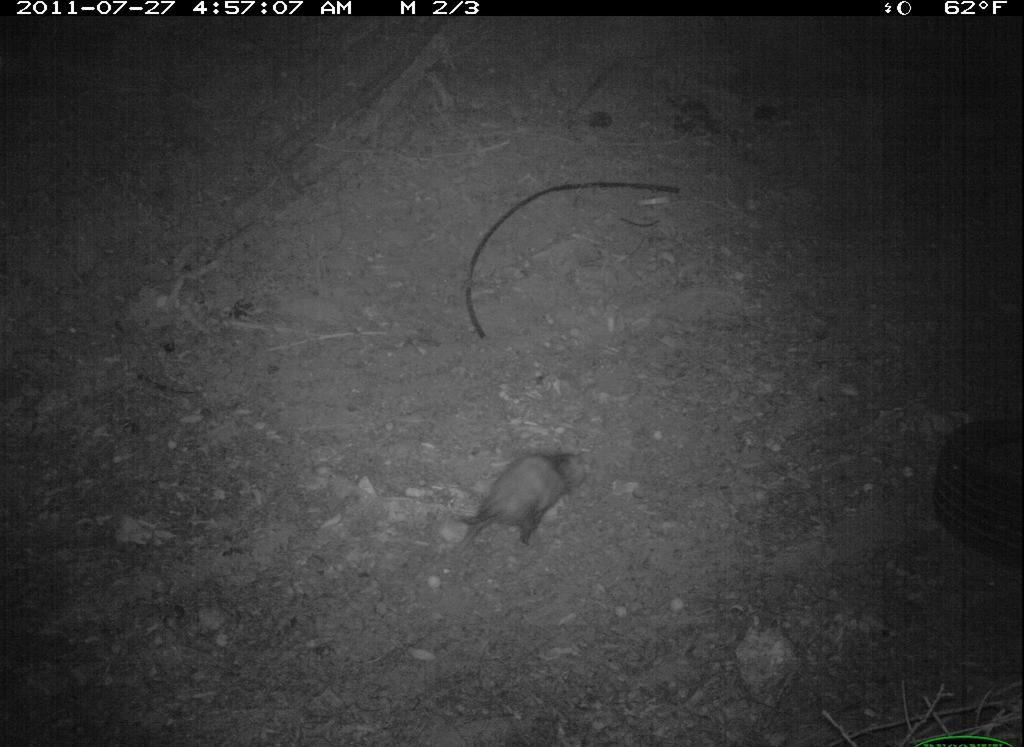opossum: (450, 418, 602, 575)
